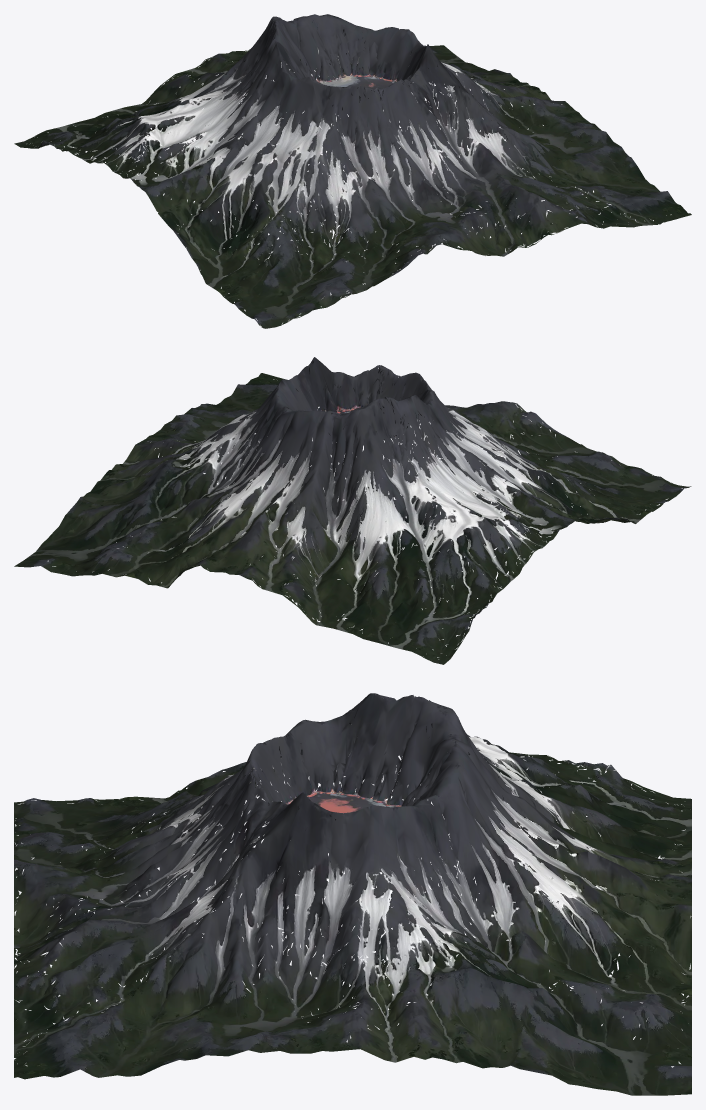
File: snowy_volcano-lo.glb
3 views of the same model, one above another, from view 1: azimuth 30°, elevation 25°; view 2: azimuth 150°, elevation 25°; view 3: azimuth 270°, elevation 25° (orthographic). The views are drawn at different scales.
Visible parts, largest first — view 1: Object_2; view 2: Object_2; view 3: Object_2.
Part boxes in pixels (x1,y1,x2,y2): Object_2: [14, 14, 691, 328]; Object_2: [14, 357, 691, 664]; Object_2: [14, 693, 691, 1095].
Bounding box in the file's own units: 0.999 × 0.3594 × 0.999.
Materials: 1 (1 with a texture image).
